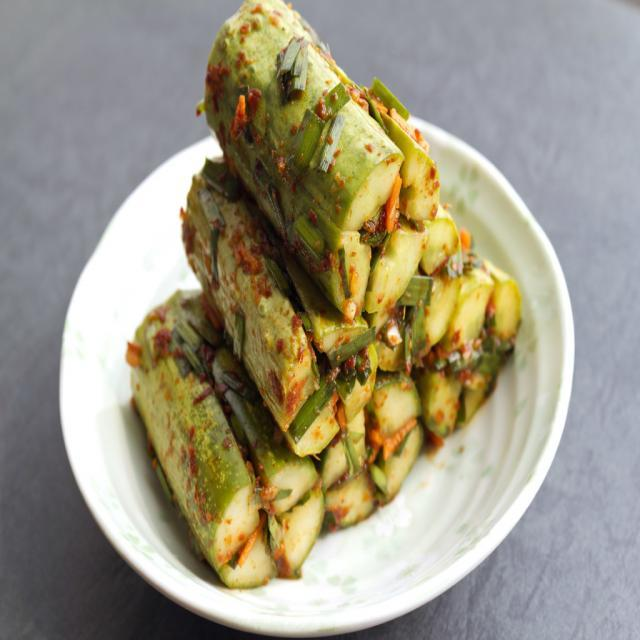Zucchini: (144, 1, 537, 550)
